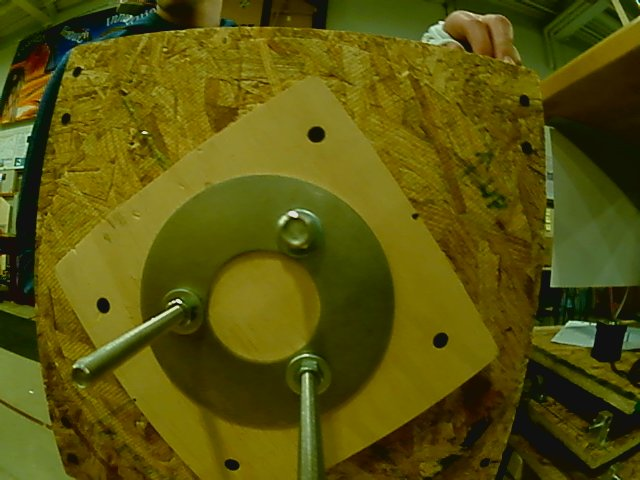bolt: (276, 206, 326, 261), (160, 285, 205, 340), (285, 351, 332, 399)
